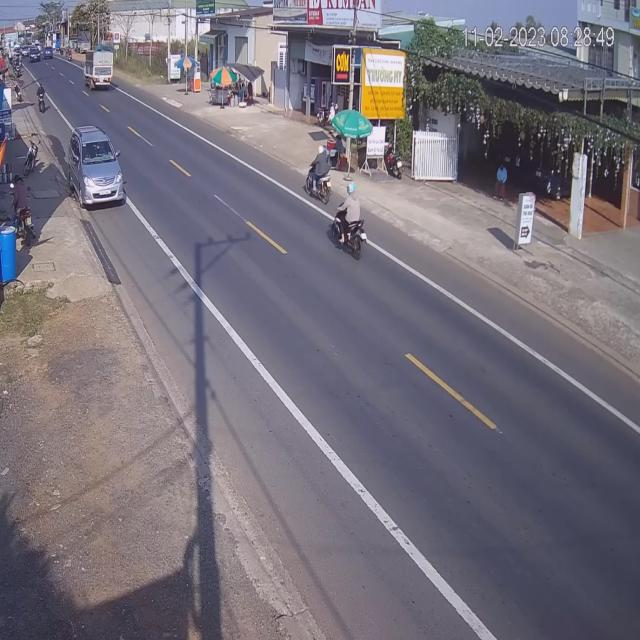car: (68, 125, 126, 209)
motorbike: (332, 187, 370, 263), (304, 144, 332, 206), (35, 80, 45, 112)
truck: (84, 50, 115, 90)
